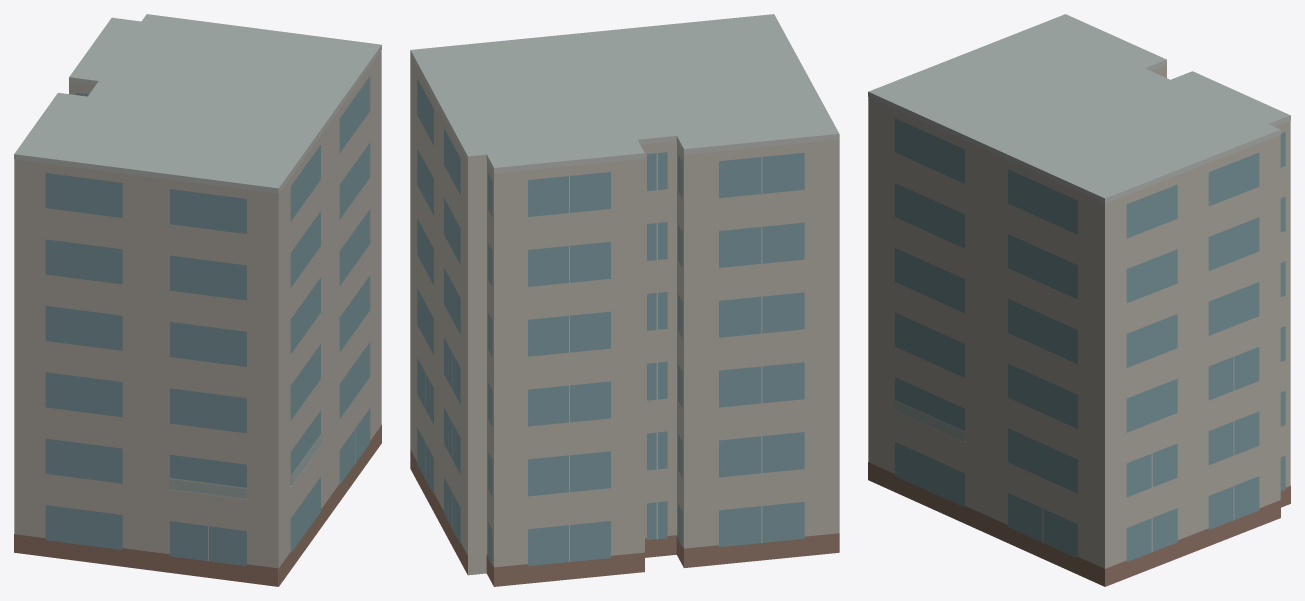
File: survey-upis-32710566.glb
3 renders of one model, left to right at view 1: azimuth 30°, elevation 25°; view 2: azimuth 150°, elevation 25°; view 3: azimuth 270°, elevation 25°, orthographic. The views are drawn at different scales.
Visible parts, largest first — view 1: survey-upis-32710566.tmp; view 2: survey-upis-32710566.tmp; view 3: survey-upis-32710566.tmp.
Part boxes in pixels (bbox=[...]): survey-upis-32710566.tmp: bbox=[14, 14, 381, 586]; survey-upis-32710566.tmp: bbox=[410, 14, 839, 586]; survey-upis-32710566.tmp: bbox=[868, 14, 1290, 586].
Bounding box in the file's own units: 18.65 × 18.3 × 18.05.
